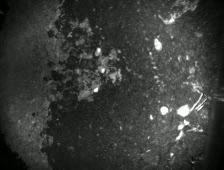corn: (152, 37, 163, 52), (95, 64, 107, 75), (92, 46, 102, 58), (92, 83, 102, 93)
